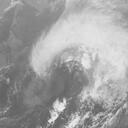cyclone: (30, 25, 101, 109)
